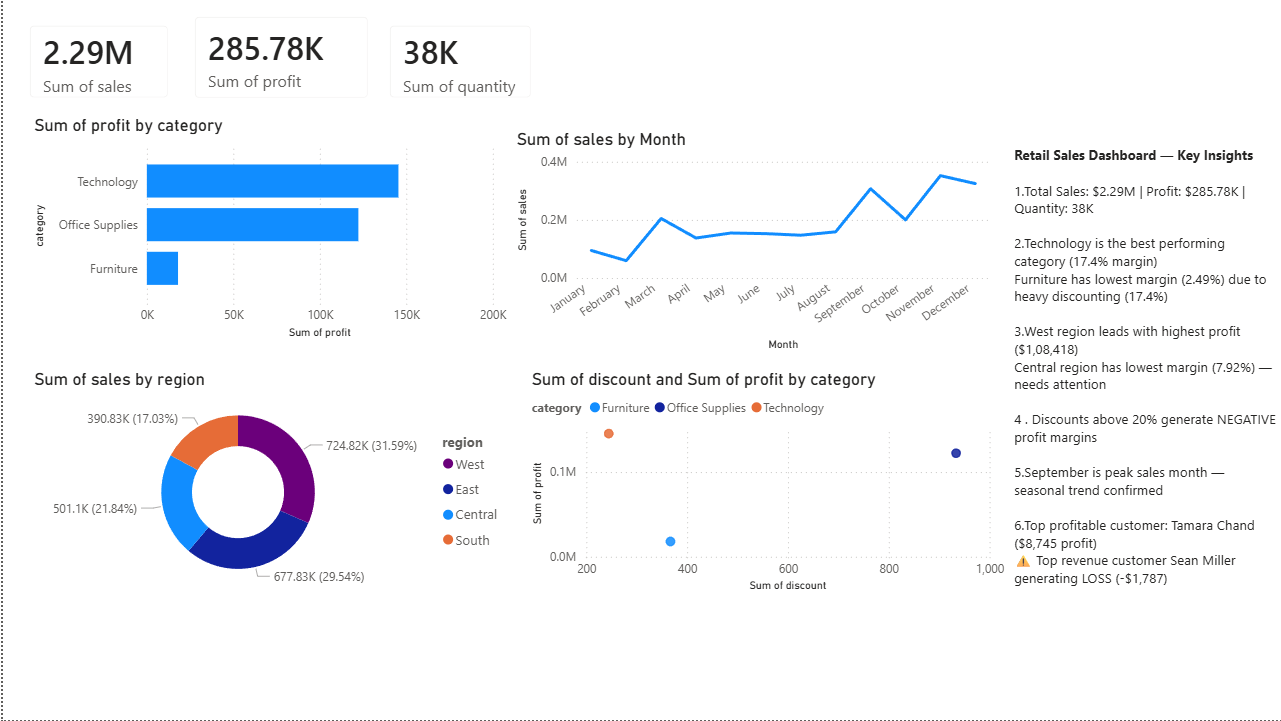

The dashboard page shown, as its layout file describes it:
{"tool":"powerbi","page":{"name":"Page 1","canvas":[1280,720],"ordinal":0},"visuals":[{"type":"cardVisual","fields":{"Data":["Sum(retail_sales.sales)"]},"box":[10,9.1,172.7,106.4],"z":0},{"type":"cardVisual","fields":{"Data":["Sum(retail_sales.profit)"]},"box":[174.5,0,207.3,115.5],"z":1000},{"type":"cardVisual","fields":{"Data":["Sum(retail_sales.quantity)"]},"box":[370,9.1,175.5,106.4],"z":2000},{"type":"clusteredBarChart","fields":{"Category":["retail_sales.category"],"Y":["Sum(retail_sales.profit)"]},"box":[26.4,115.5,482.7,228.2],"z":3000},{"type":"donutChart","fields":{"Category":["retail_sales.region"],"Y":["Sum(retail_sales.sales)"]},"box":[26,369,483,228],"z":4000},{"type":"lineChart","fields":{"Category":["retail_sales.order_date.Variation.Date Hierarchy.Month"],"Y":["Sum(retail_sales.sales)"]},"box":[509.1,129.1,482.7,227.3],"z":5000},{"type":"scatterChart","fields":{"Y":["Sum(retail_sales.profit)"],"X":["Sum(retail_sales.discount)"],"Series":["retail_sales.category"]},"box":[524,369,483,228],"z":5001},{"type":"textbox","box":[1006.4,140.9,273.6,456.4],"z":5002}]}

Visuals, with their boxes in screenshot pixels (x1, y1, x2, y2), scaled from the page's 1280x720 canvas onto the 1281x721 screenshot:
cardVisual - Sum(retail_sales.sales): 10/9/183/116
cardVisual - Sum(retail_sales.profit): 175/0/382/116
cardVisual - Sum(retail_sales.quantity): 370/9/546/116
clusteredBarChart - retail_sales.category x Sum(retail_sales.profit): 26/116/509/344
donutChart - retail_sales.region x Sum(retail_sales.sales): 26/370/509/598
lineChart - retail_sales.order_date.Variation.Date Hierarchy.Month x Sum(retail_sales.sales): 509/129/993/357
scatterChart - Sum(retail_sales.profit) x Sum(retail_sales.discount): 524/370/1008/598
textbox: 1007/141/1280/598
